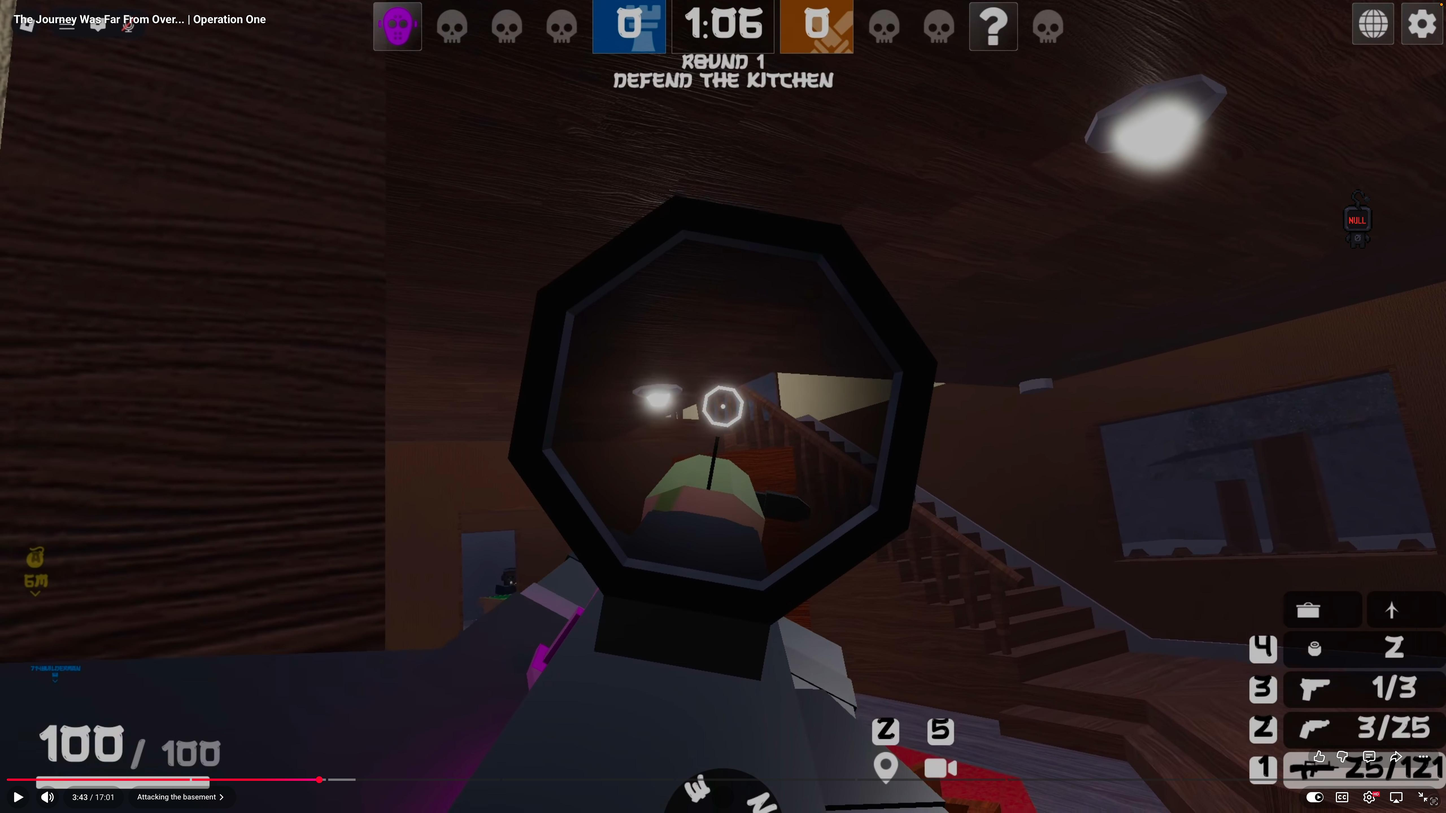enemy: (493, 565, 522, 599)
